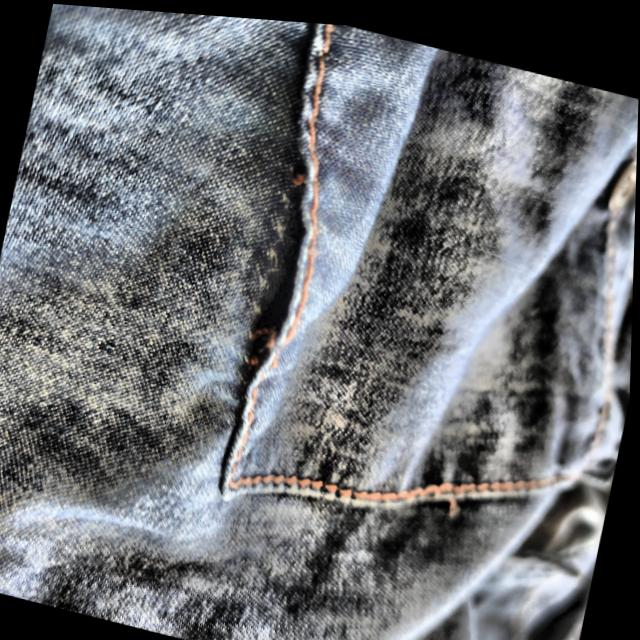seam: (210, 112, 340, 425)
